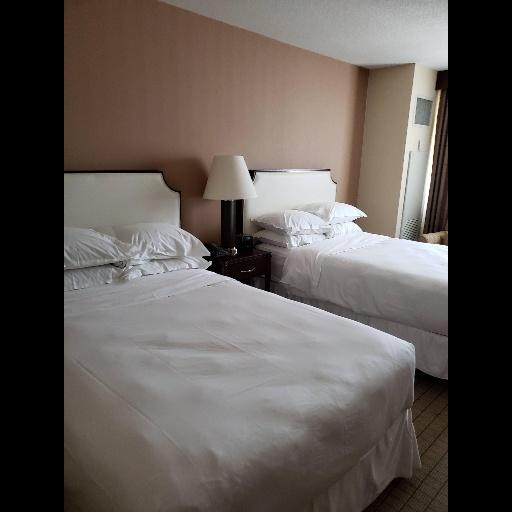clean_bed: (61, 170, 423, 511), (243, 169, 448, 378)
lamp: (200, 151, 258, 258)
organised_pillow: (63, 220, 218, 295), (250, 196, 368, 249)
